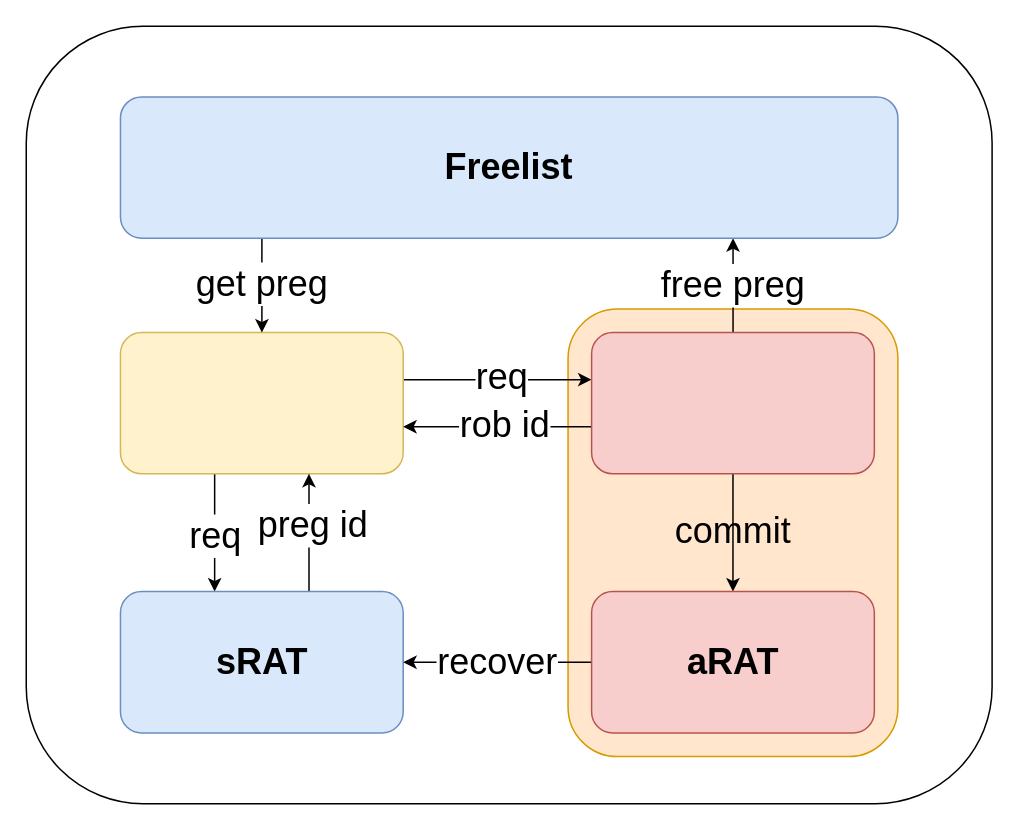
The diagram is 1019 pixels wide and 831 high, and some of its shapes have lost their labels. Each missing label, with the centre of its shape:
"RenameTop" goes at point 261,402.
"ReOrder Buffer" goes at point 732,402.
